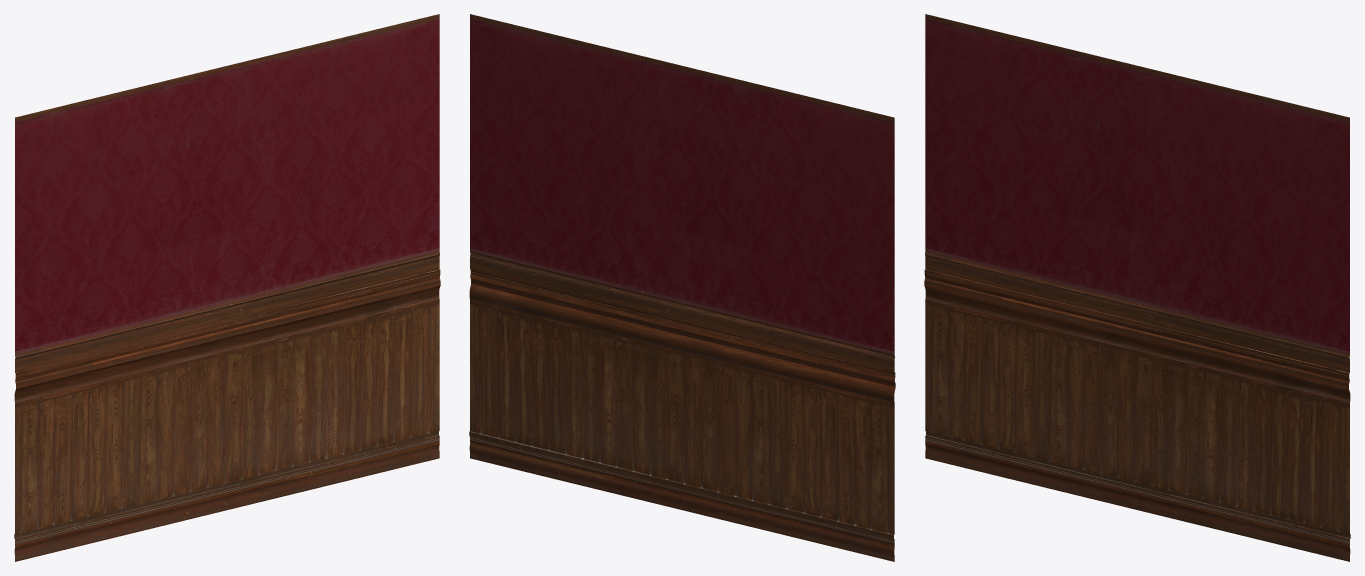
The model's file is Wall.fbx.
The picture shows the model from 3 angles, left to right: view 1: azimuth 30°, elevation 25°; view 2: azimuth 150°, elevation 25°; view 3: azimuth 330°, elevation 25°; orthographic projection.
Parts seen in each view (by area): view 1: Plane; view 2: Plane; view 3: Plane.
Boxes of the visible parts, box(x1,y1,x2,y2) form: Plane: box(14, 14, 440, 561); Plane: box(469, 14, 895, 561); Plane: box(924, 14, 1350, 561).
Size of the model in its own units: 200 by 200 by 1.55.
